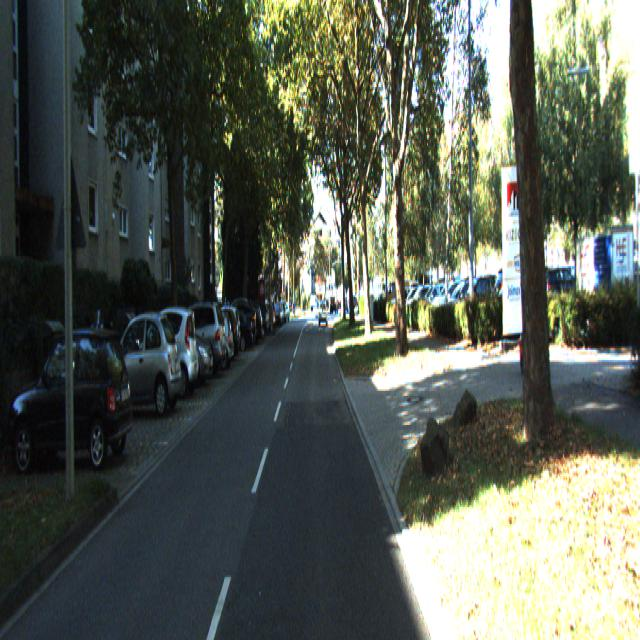Car: (5, 330, 133, 480), (100, 311, 184, 423), (129, 306, 202, 401), (145, 310, 214, 390), (164, 298, 228, 380), (184, 308, 236, 373), (205, 304, 241, 362), (223, 296, 257, 347), (215, 311, 253, 355), (230, 300, 264, 346), (236, 300, 268, 342)
